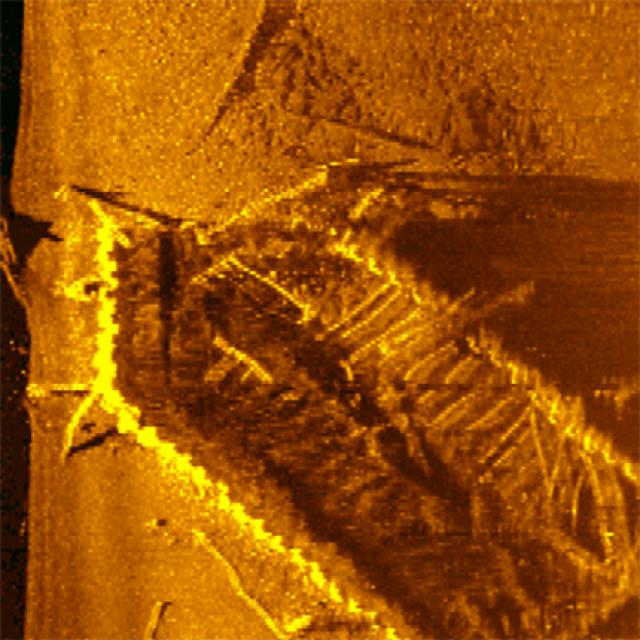ship: (95, 204, 627, 637)
